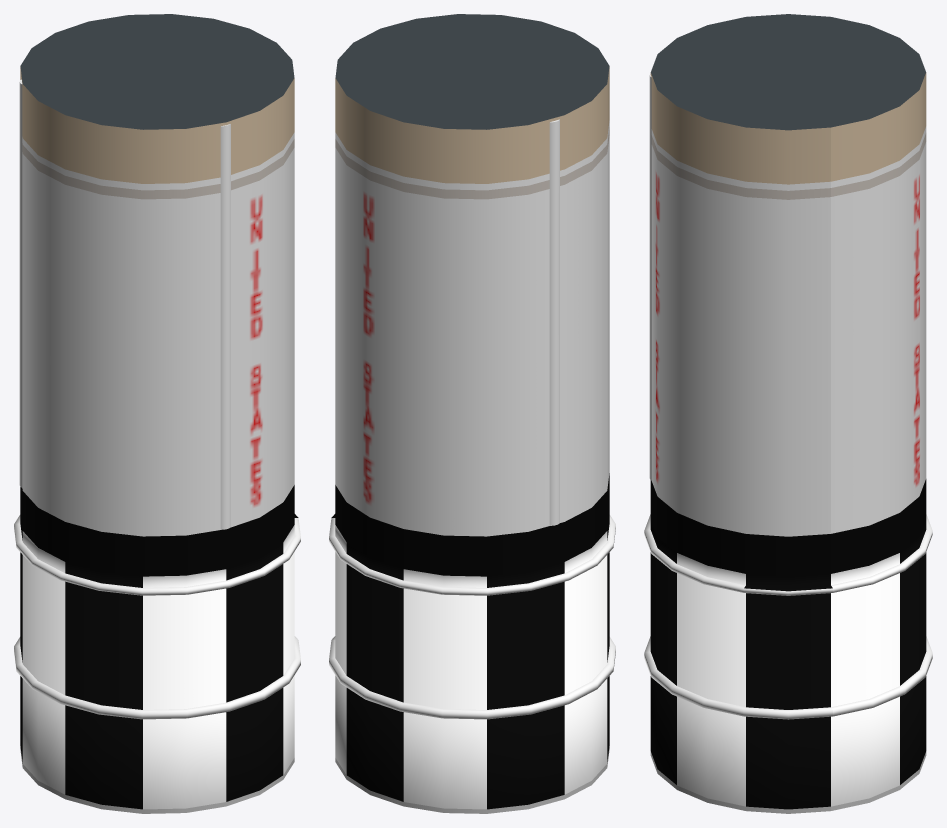
The model's file is Saturn_Etapa_1.obj.
3 renders of one model, left to right at view 1: azimuth 30°, elevation 25°; view 2: azimuth 150°, elevation 25°; view 3: azimuth 270°, elevation 25°, orthographic.
Parts seen in each view (by area): view 1: Saturn_Etapa_1; view 2: Saturn_Etapa_1; view 3: Saturn_Etapa_1.
Part boxes in pixels (x1=…): Saturn_Etapa_1: x1=14, y1=14, x2=300, y2=813; Saturn_Etapa_1: x1=329, y1=14, x2=615, y2=813; Saturn_Etapa_1: x1=644, y1=14, x2=932, y2=813.
Bounding box in the file's own units: 5.19 × 13.58 × 5.19.
